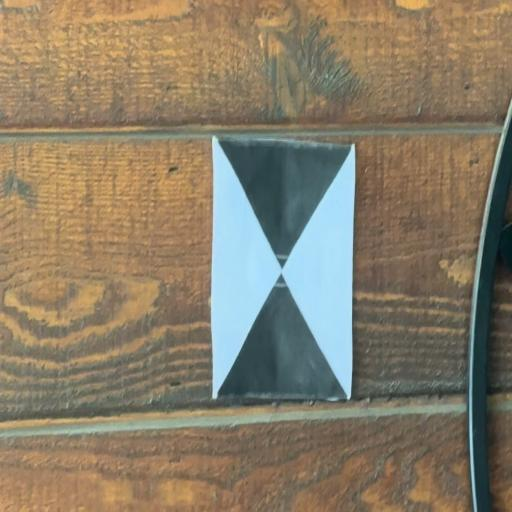target: (212, 137, 353, 400)
